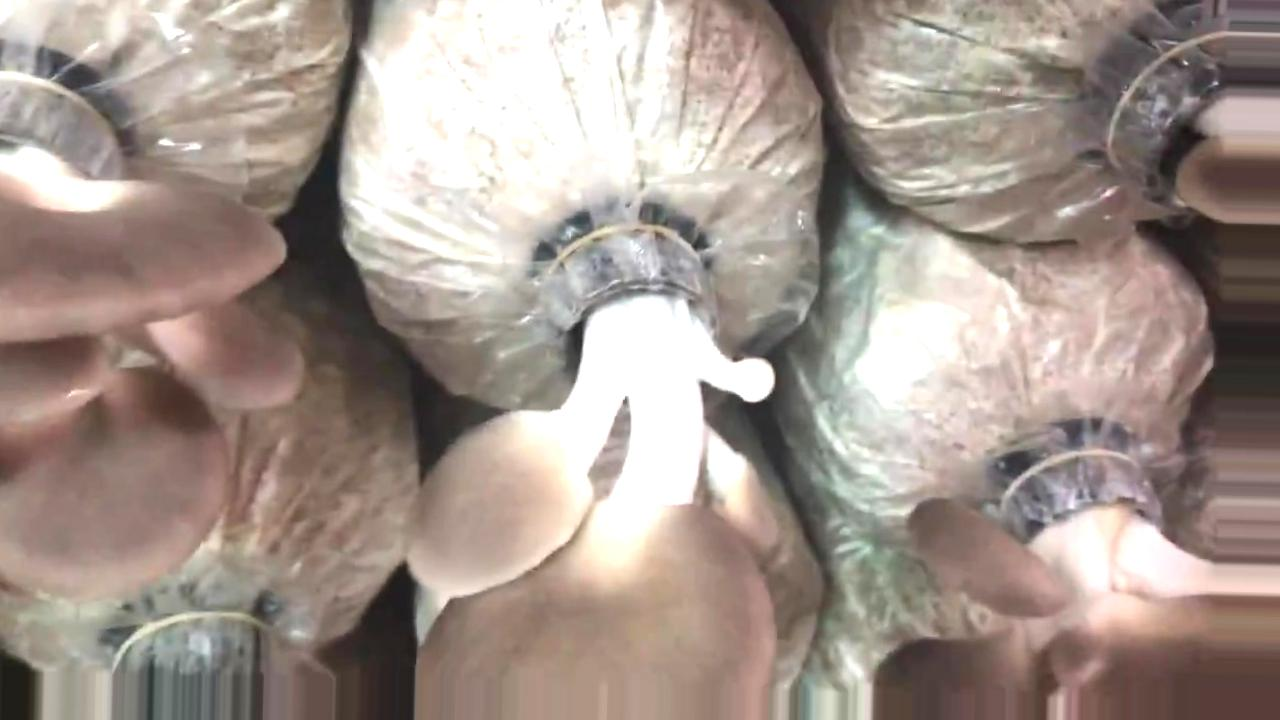nam: (412, 225, 789, 720), (1, 64, 306, 601), (873, 453, 1276, 720), (1117, 16, 1280, 223)
